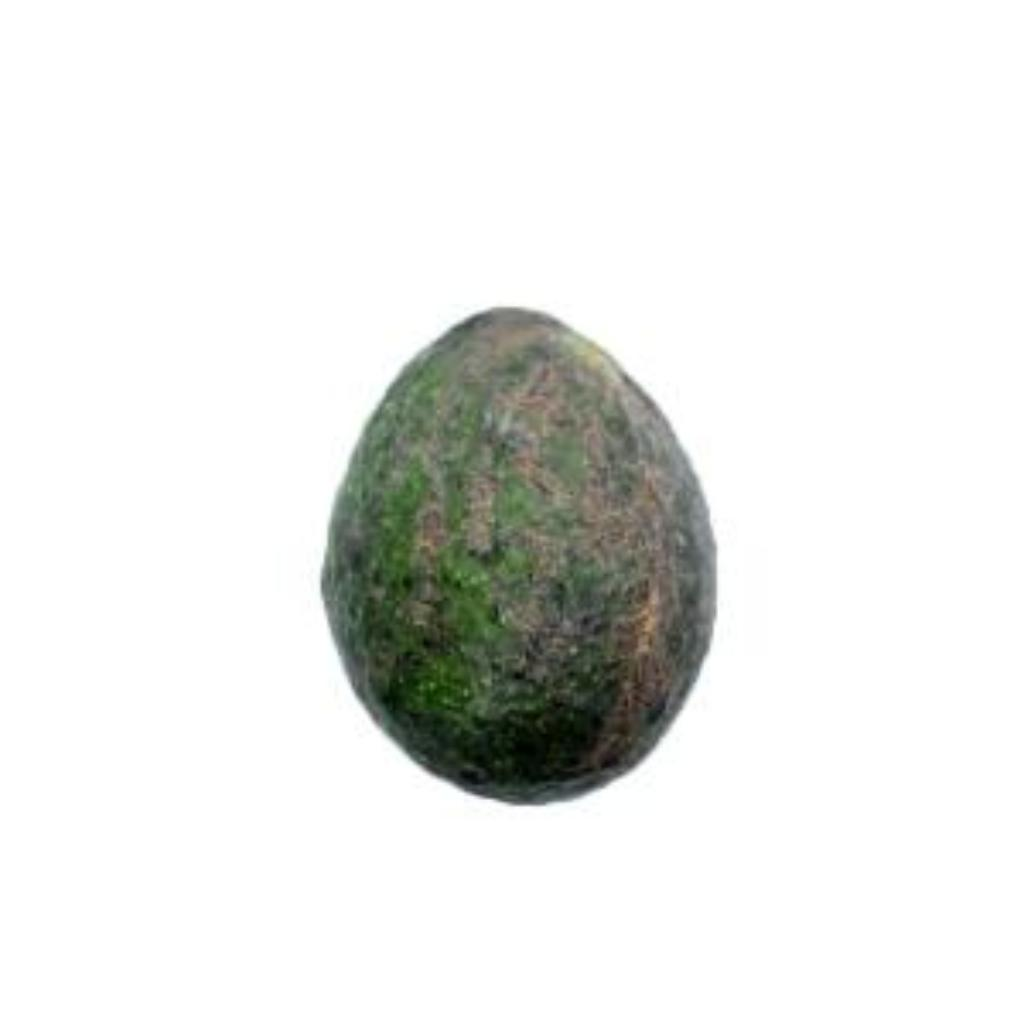cercospora_spot: (310, 294, 734, 812)
